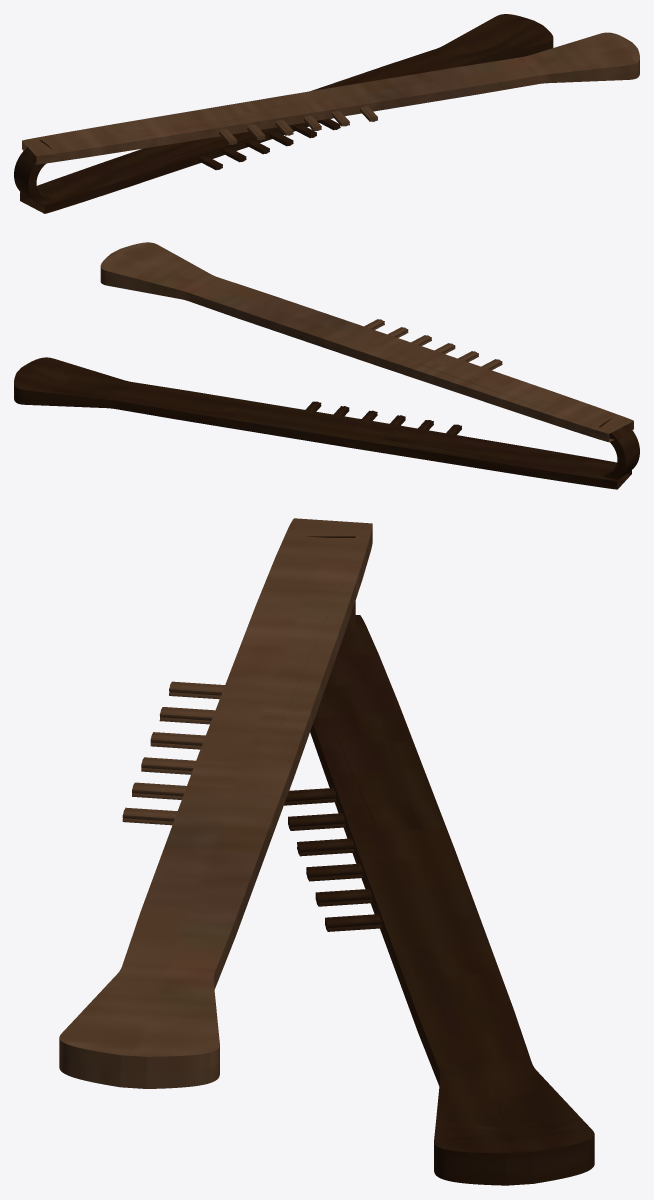
The model's file is Handtools_wooden_tongs__0078.glb.
3 views of the same model, one above another, from view 1: azimuth 30°, elevation 25°; view 2: azimuth 150°, elevation 25°; view 3: azimuth 270°, elevation 25° (orthographic). The views are drawn at different scales.
Visible parts, largest first — view 1: moving_arm::arm_strip_1, fixed_arm::arm_strip_0, fixed_arm::wood_bend; view 2: fixed_arm::arm_strip_0, moving_arm::arm_strip_1, fixed_arm::wood_bend; view 3: moving_arm::arm_strip_1, fixed_arm::arm_strip_0.
Part boxes in pixels (bbox=[...]): moving_arm::arm_strip_1: bbox=[22, 32, 639, 164]; fixed_arm::arm_strip_0: bbox=[20, 14, 553, 213]; fixed_arm::wood_bend: bbox=[14, 140, 52, 207]; fixed_arm::arm_strip_0: bbox=[14, 357, 631, 489]; moving_arm::arm_strip_1: bbox=[100, 242, 633, 442]; fixed_arm::wood_bend: bbox=[599, 418, 639, 479]; moving_arm::arm_strip_1: bbox=[59, 518, 372, 1088]; fixed_arm::arm_strip_0: bbox=[310, 615, 594, 1185].
Size of the model in its own units: 0.2948 by 0.032 by 0.1206.
2 materials, 2 textured.
